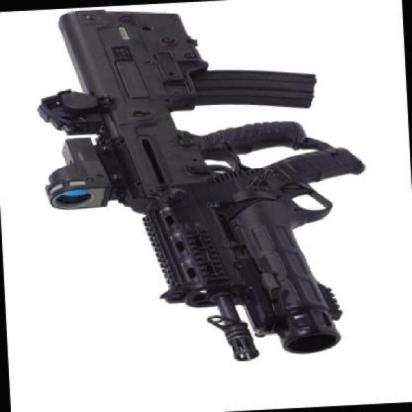Gun: (11, 0, 376, 366)
